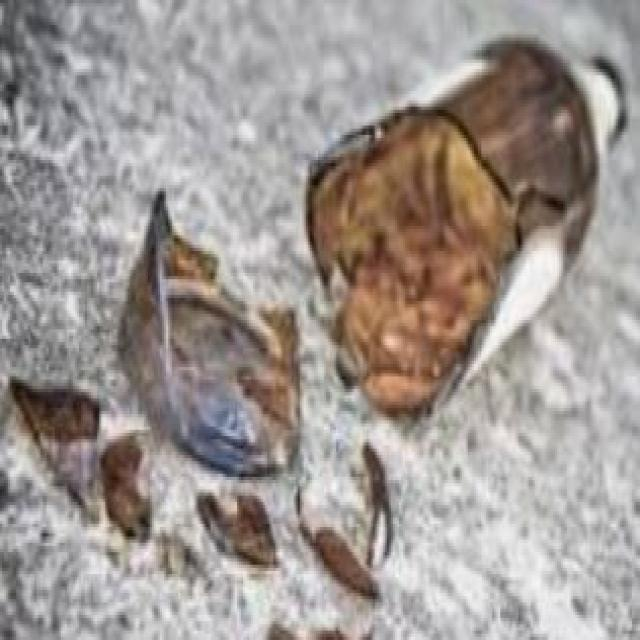electronic: (304, 32, 629, 418), (118, 193, 304, 485)
